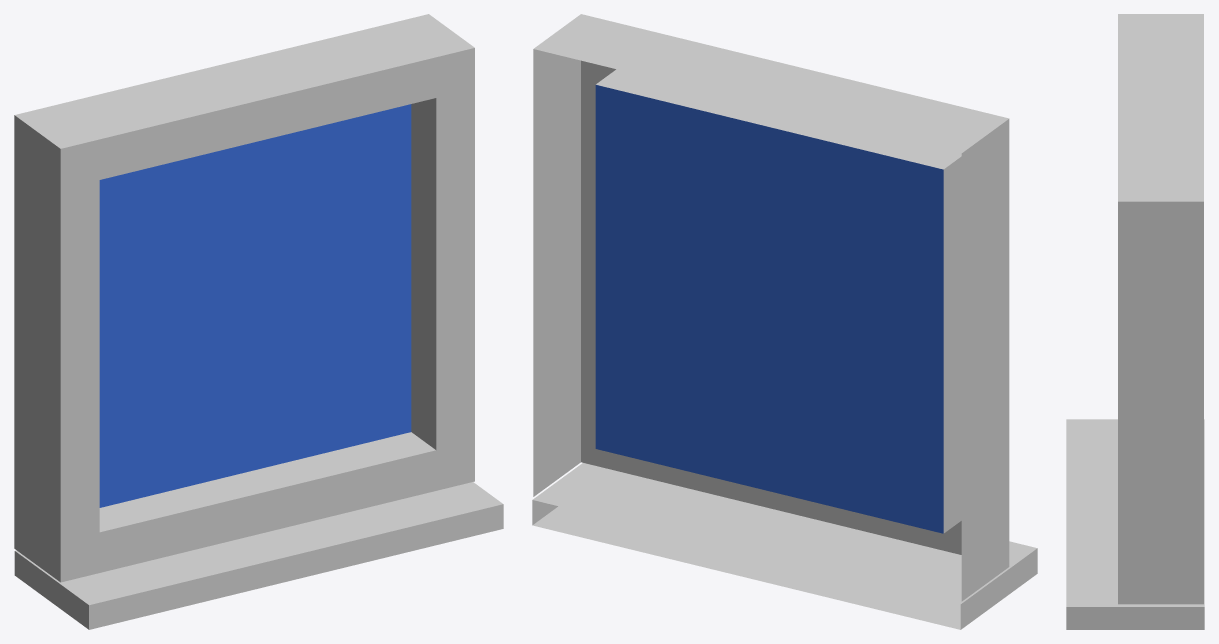
File: okno.fbx
3 renders of one model, left to right at view 1: azimuth 30°, elevation 25°; view 2: azimuth 150°, elevation 25°; view 3: azimuth 270°, elevation 25°, orthographic. The views are drawn at different scales.
Visible parts, largest first — view 1: Cube.004; view 2: Cube.004; view 3: Cube.004.
Part boxes in pixels (<box>): Cube.004: <box>14,14,503,629</box>; Cube.004: <box>532,14,1037,629</box>; Cube.004: <box>1066,14,1204,629</box>.
Size of the model in its own units: 100 by 106 by 31.07.
